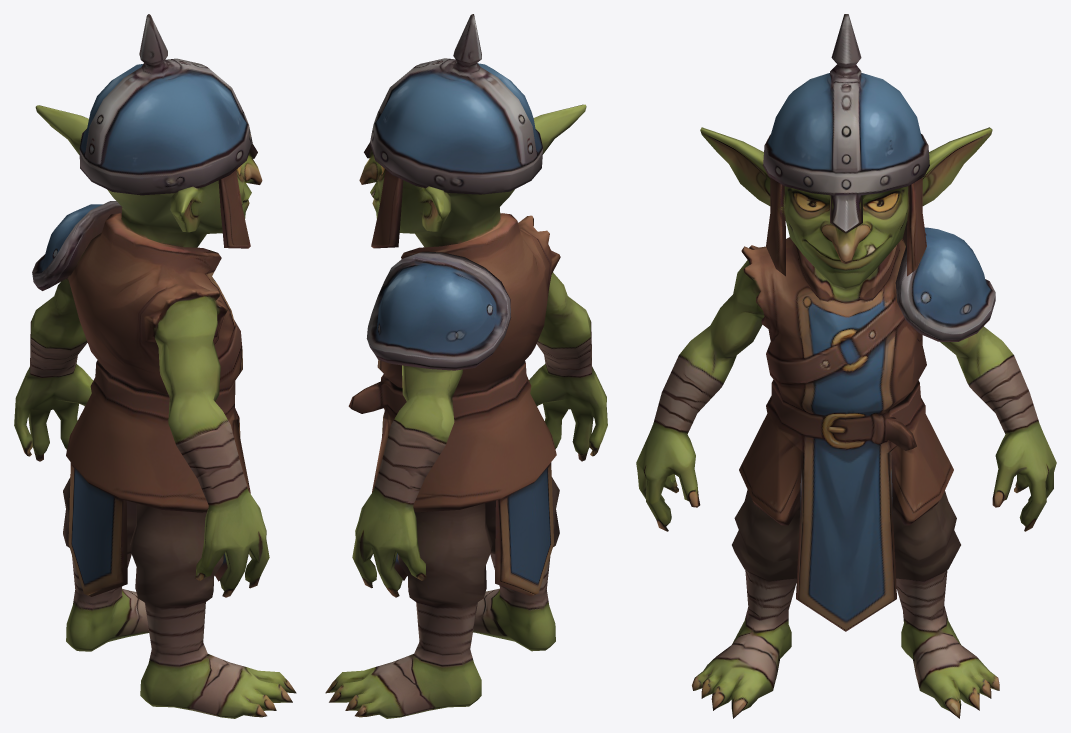
File: grunt_tripo.glb
The picture shows the model from 3 angles, left to right: view 1: azimuth 30°, elevation 25°; view 2: azimuth 150°, elevation 25°; view 3: azimuth 270°, elevation 25°; orthographic projection.
Visible parts, largest first — view 1: tripo_node_18cba6fc-1f4d-49d6-86d2-02324fc564a8; view 2: tripo_node_18cba6fc-1f4d-49d6-86d2-02324fc564a8; view 3: tripo_node_18cba6fc-1f4d-49d6-86d2-02324fc564a8.
Boxes of the visible parts, bbox=[...] form: tripo_node_18cba6fc-1f4d-49d6-86d2-02324fc564a8: bbox=[14, 14, 296, 718]; tripo_node_18cba6fc-1f4d-49d6-86d2-02324fc564a8: bbox=[325, 14, 607, 718]; tripo_node_18cba6fc-1f4d-49d6-86d2-02324fc564a8: bbox=[636, 14, 1056, 718].
Bounding box in the file's own units: 0.2871 × 0.998 × 0.5762.
1 material, 1 textured.
